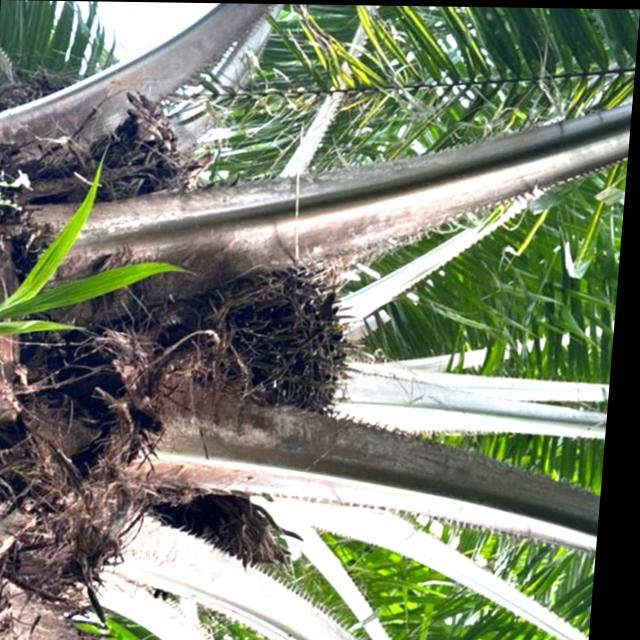unripe: (162, 245, 377, 434)
